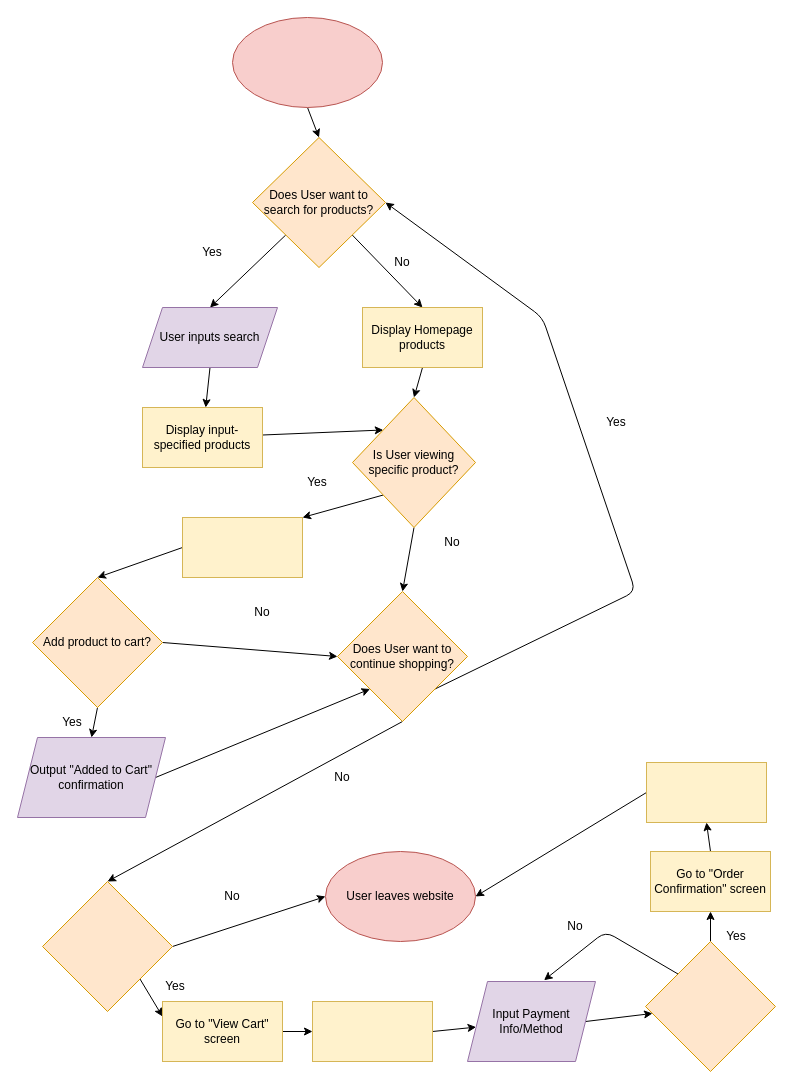
Image size: 793x1089. Some labels were removed from this diagram. The centre of each missing label's shape, as x and y in pixels:
Does User want to checkout?: point (107, 946)
Go to "View Payment" screen: point (372, 1031)
Go to product's homepage: point (242, 547)
Is it Valid Payment Method?: point (710, 1006)
Send order confirmation email to User: point (706, 792)
User enters site: point (307, 62)
